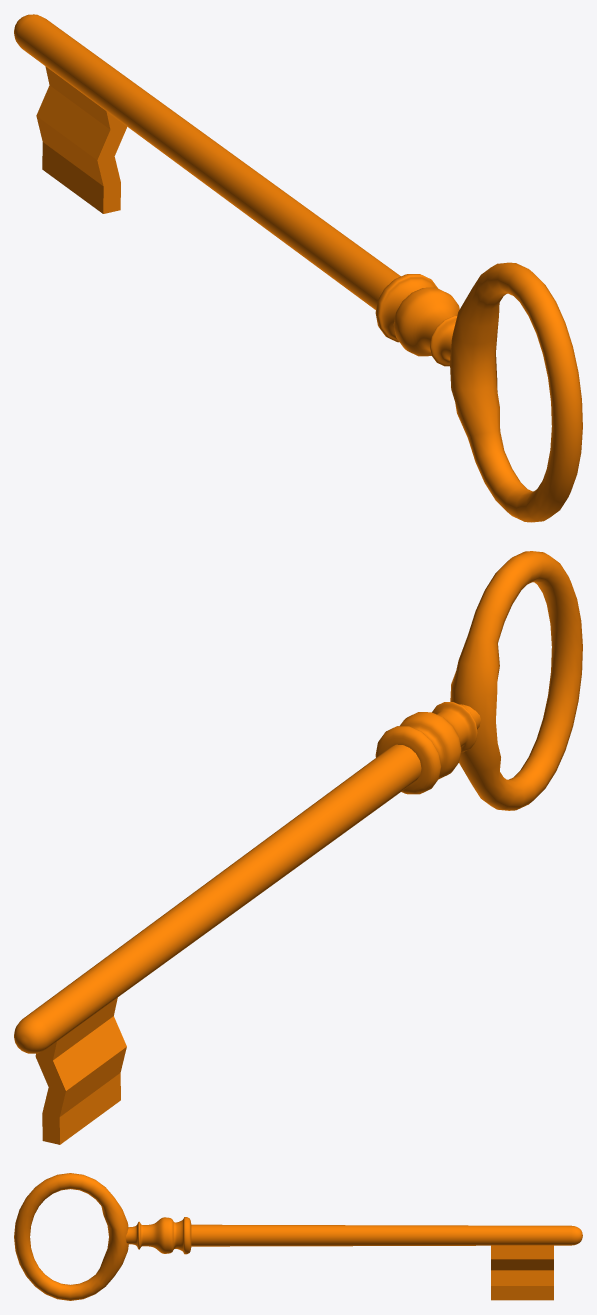
The model's file is key.FBX.
3 renders of one model, top to bottom at view 1: azimuth 30°, elevation 25°; view 2: azimuth 150°, elevation 25°; view 3: azimuth 270°, elevation 25°, orthographic. The views are drawn at different scales.
Parts seen in each view (by area): view 1: Ellipse01; view 2: Ellipse01; view 3: Ellipse01.
Part boxes in pixels (x1,y1,x2,y2): Ellipse01: (14,14,582,522); Ellipse01: (14,551,582,1144); Ellipse01: (14,1173,582,1300).
Size of the model in its own units: 3.25 by 49.05 by 12.11.
